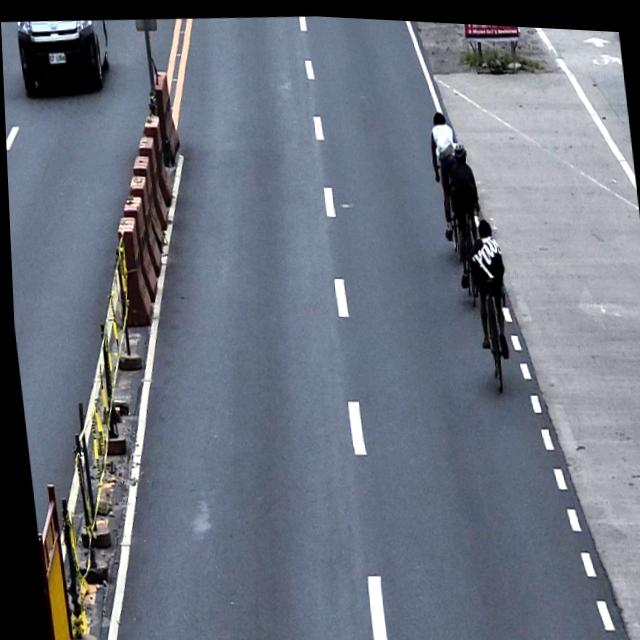Bicycle: (471, 253, 510, 392), (452, 191, 487, 304), (433, 148, 466, 254)
Car: (14, 15, 116, 102)
License-Plate: (46, 50, 68, 66)
